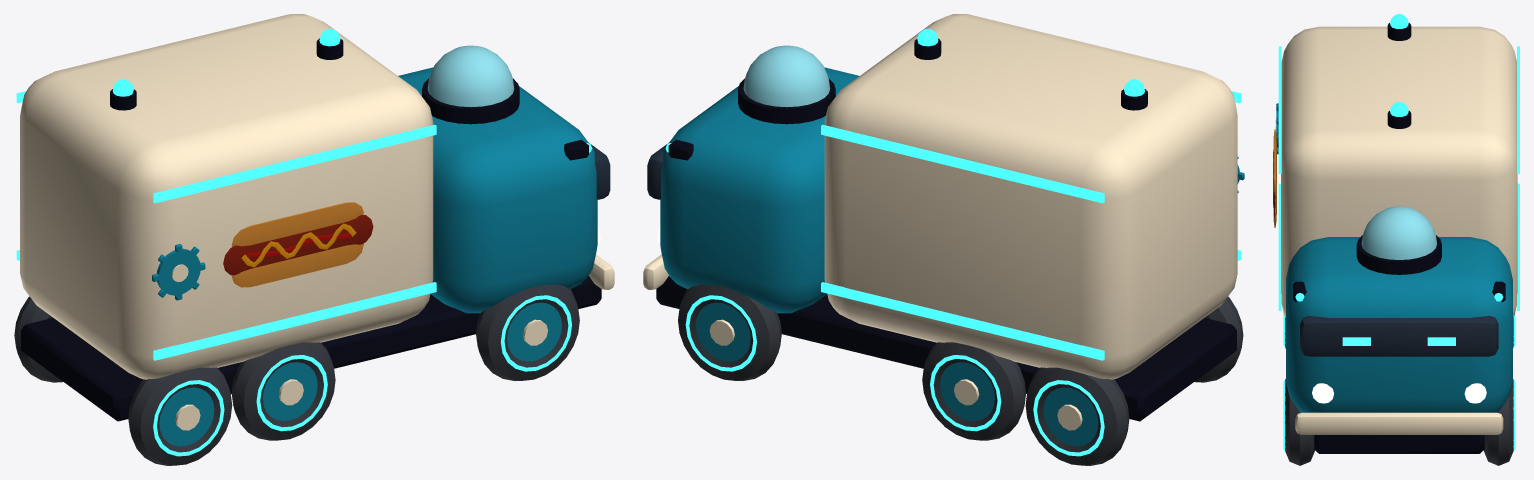
The model's file is RobotTruck.fbx.
3 views of the same model, side by side, from view 1: azimuth 30°, elevation 25°; view 2: azimuth 150°, elevation 25°; view 3: azimuth 270°, elevation 25° (orthographic). The views are drawn at different scales.
Parts seen in each view (by area): view 1: RobotTruck; view 2: RobotTruck; view 3: RobotTruck.
Part boxes in pixels (left/top/right/bottom): RobotTruck: left=14, top=14, right=614, bottom=465; RobotTruck: left=643, top=14, right=1244, bottom=465; RobotTruck: left=1273, top=14, right=1519, bottom=465.
Bounding box in the file's own units: 10.5 × 6.97 × 5.22.
